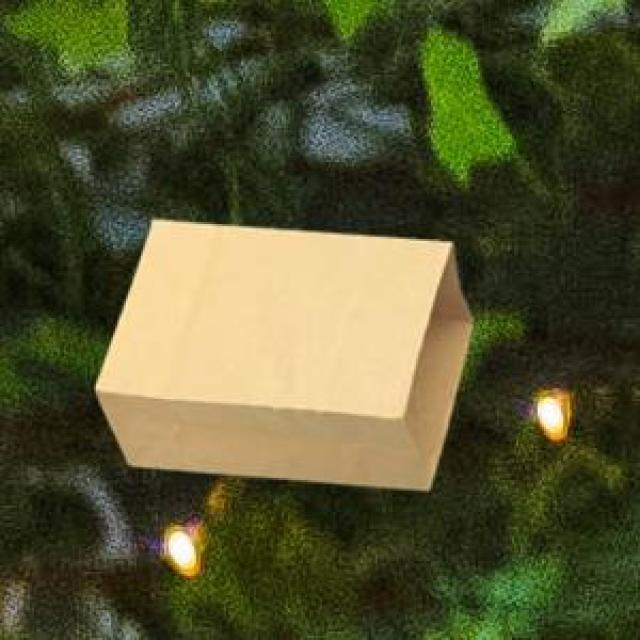paper: (92, 216, 467, 486)
